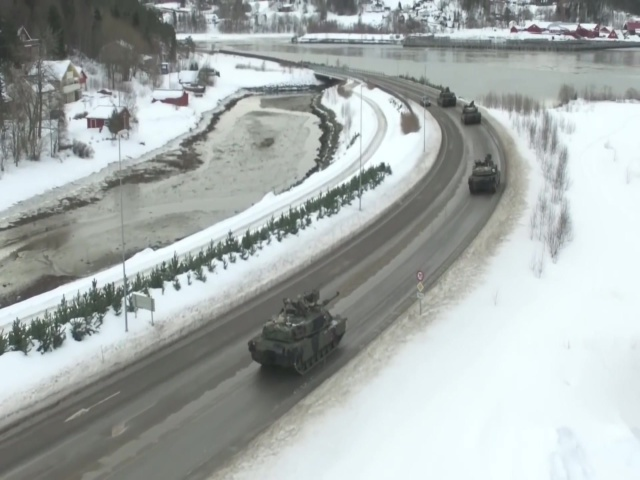vehicle: (248, 288, 348, 374), (468, 157, 501, 193), (460, 101, 481, 125), (437, 86, 456, 108)
